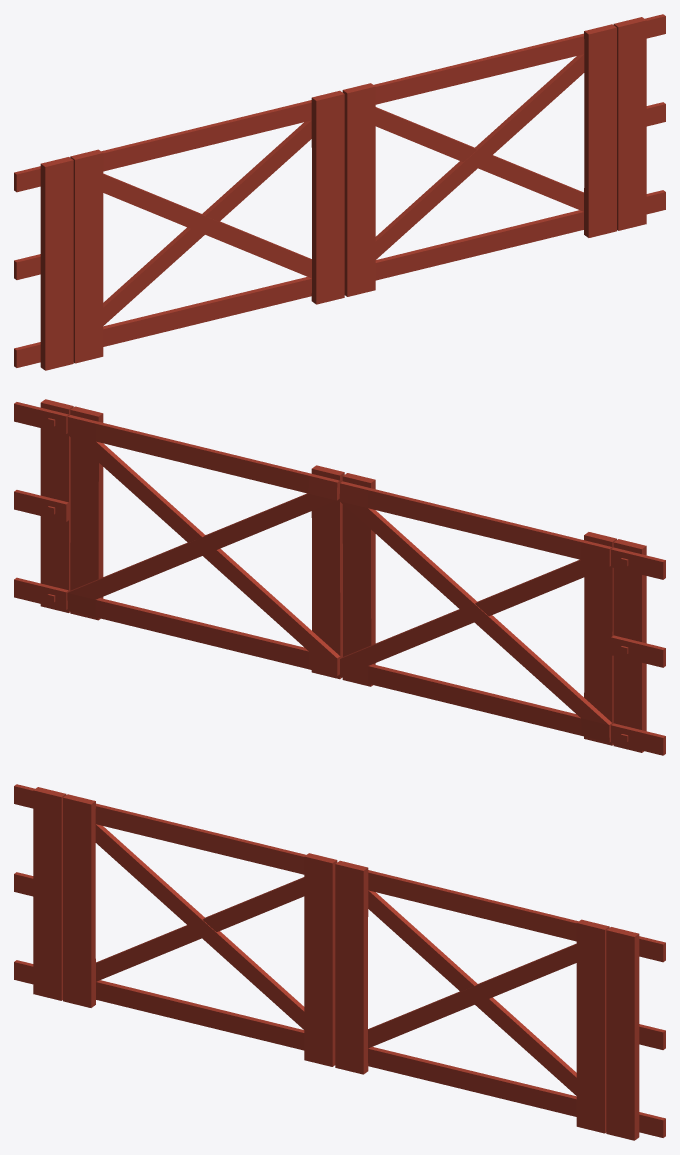
The model's file is wicket_01_B.gltf.
The picture shows the model from 3 angles, top to bottom: view 1: azimuth 30°, elevation 25°; view 2: azimuth 150°, elevation 25°; view 3: azimuth 330°, elevation 25°; orthographic projection.
Visible parts, largest first — view 1: wicketDoor_02_B, wicketDoor_02_A, wicket_01_B; view 2: wicketDoor_02_B, wicketDoor_02_A, wicket_01_B; view 3: wicketDoor_02_A, wicketDoor_02_B, wicket_01_B.
Part boxes in pixels (x1=…): wicketDoor_02_B: x1=342, y1=24, x2=616, y2=296; wicketDoor_02_A: x1=70, y1=90, x2=344, y2=363; wicket_01_B: x1=14, y1=14, x2=665, y2=370; wicketDoor_02_B: x1=67, y1=406, x2=344, y2=679; wicketDoor_02_A: x1=339, y1=473, x2=616, y2=745; wicket_01_B: x1=14, y1=399, x2=665, y2=755; wicketDoor_02_A: x1=63, y1=794, x2=337, y2=1066; wicketDoor_02_B: x1=335, y1=860, x2=609, y2=1133; wicket_01_B: x1=14, y1=784, x2=665, y2=1140.
Bounding box in the file's own units: 2.89 × 0.8661 × 0.066.
